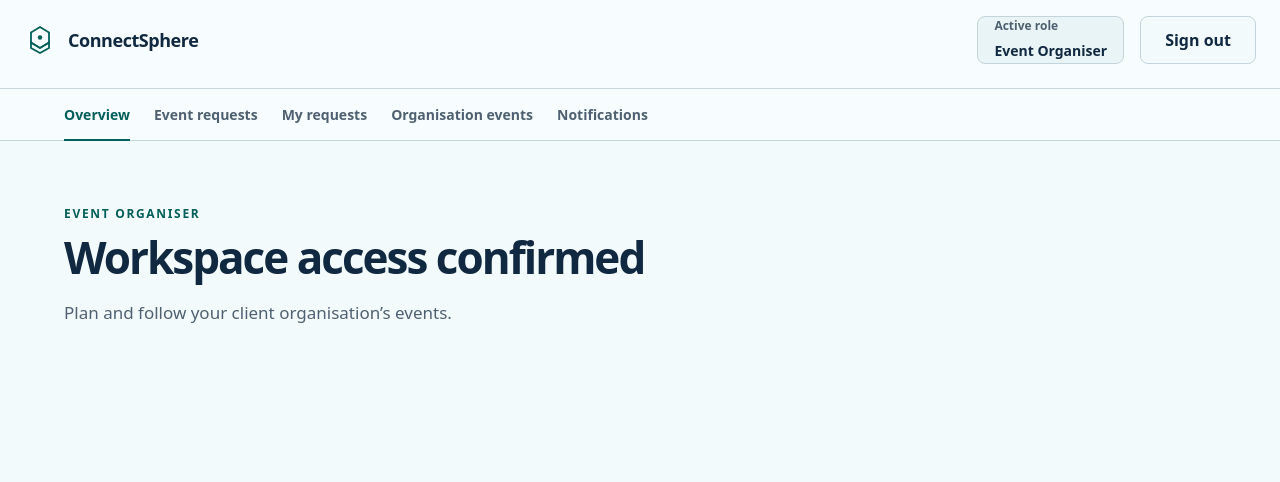
Scenario: AC5 - only the signed-in account, every role › [QA-SPL-126-053] the event_organiser workspace opens Email settings from the inbox
This screenshot has width=1280, height=482.
Step 1. Click the link "Notifications" → (602, 114), box [557,105,648,124]
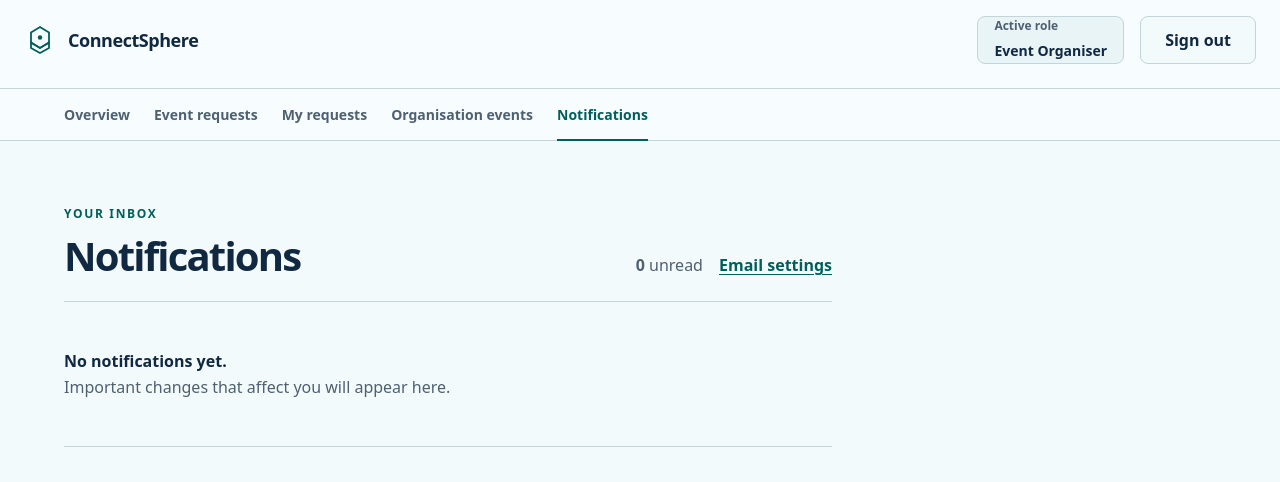
Step 2. Click the link "Email settings" → (776, 265), box [719,254,832,276]
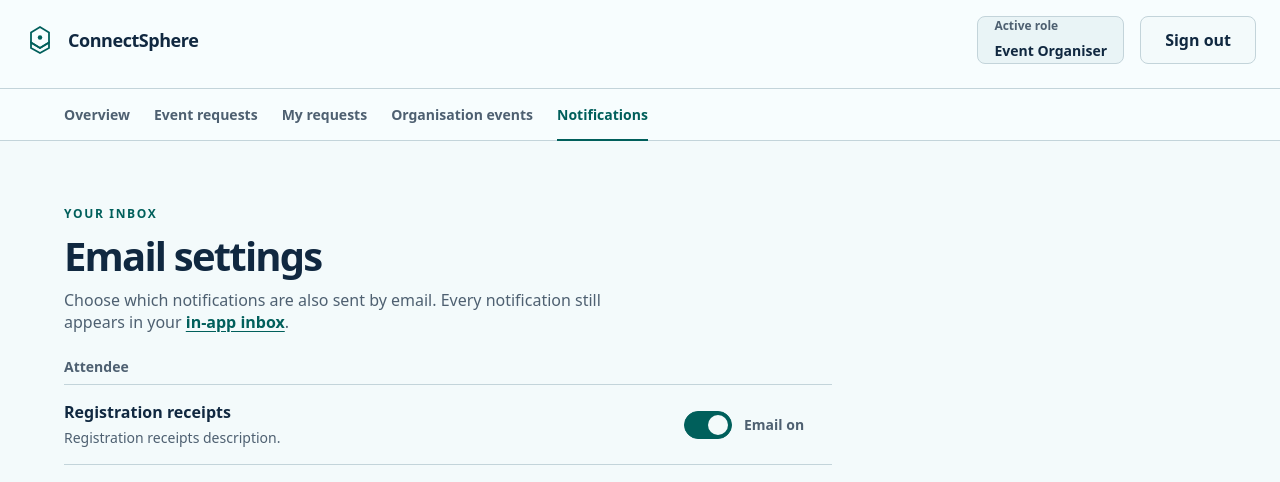
Result: the switch labelled "Registration receipts" is shown at [684,411,732,439]
